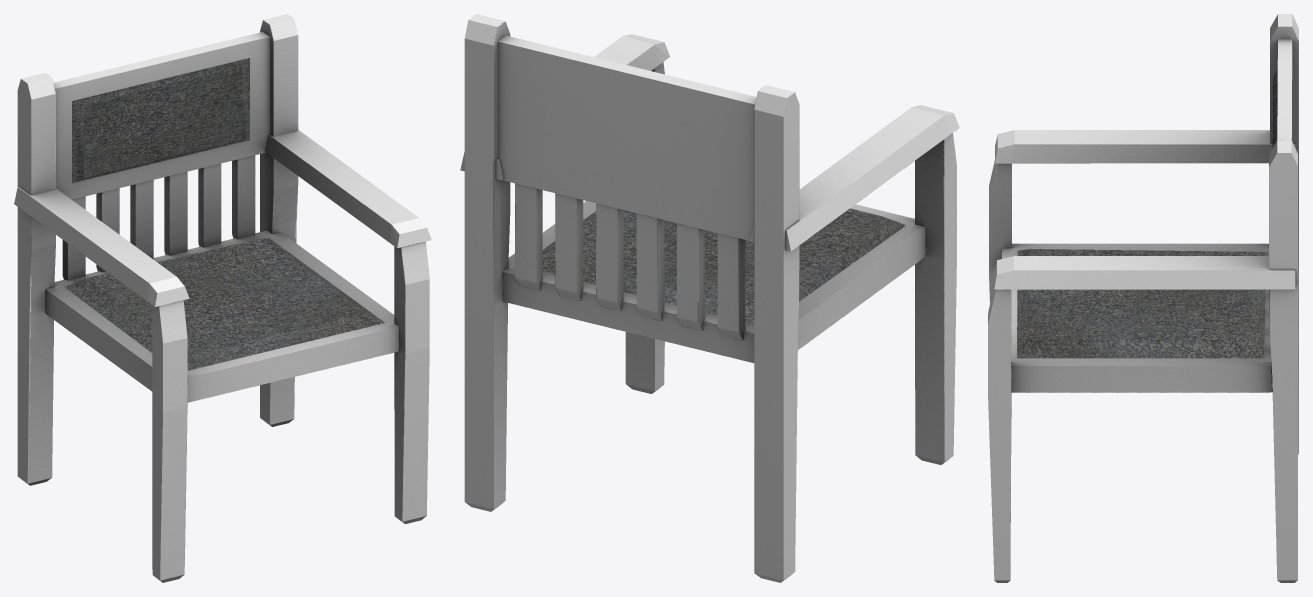
File: chair_6.fbx
3 renders of one model, left to right at view 1: azimuth 30°, elevation 25°; view 2: azimuth 150°, elevation 25°; view 3: azimuth 270°, elevation 25°, orthographic. The views are drawn at different scales.
Parts seen in each view (by area): view 1: chair_6; view 2: chair_6; view 3: chair_6.
Boxes of the visible parts, x1,y1,x2,y2 form: chair_6: [14, 14, 431, 582]; chair_6: [460, 14, 959, 582]; chair_6: [988, 14, 1298, 582].
Bounding box in the file's own units: 1.25 × 1.74 × 1.14.
